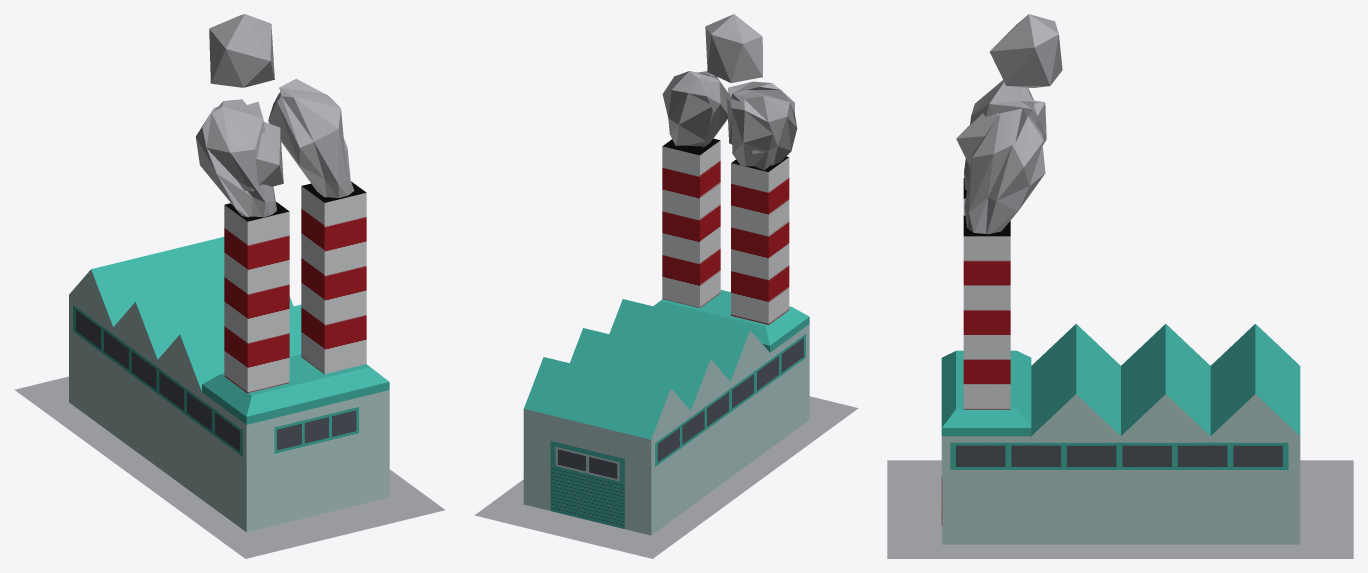
Rendered from atelier.glb.
The picture shows the model from 3 angles, left to right: view 1: azimuth 30°, elevation 25°; view 2: azimuth 150°, elevation 25°; view 3: azimuth 270°, elevation 25°; orthographic projection. The views are drawn at different scales.
Parts seen in each view (by area): view 1: Icosphère.001, Icosphère.003, Icosphère.002; view 2: Icosphère.001, Icosphère.003; view 3: Icosphère.001, Icosphère.003, Icosphère.002.
Part boxes in pixels (x1,y1,x2,y2): Icosphère.001: (14,78,445,558); Icosphère.003: (209,14,274,87); Icosphère.002: (238,122,283,191); Icosphère.001: (474,71,858,558); Icosphère.003: (705,14,762,82); Icosphère.001: (887,80,1353,558); Icosphère.003: (989,14,1062,87); Icosphère.002: (956,113,999,167).
Size of the model in its own units: 15 by 34.13 by 30.
1 material, 1 textured.
